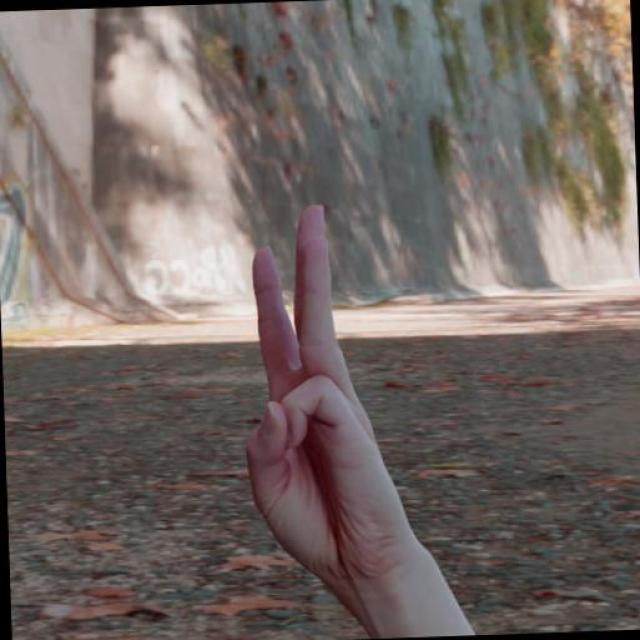W: (241, 193, 415, 586)
